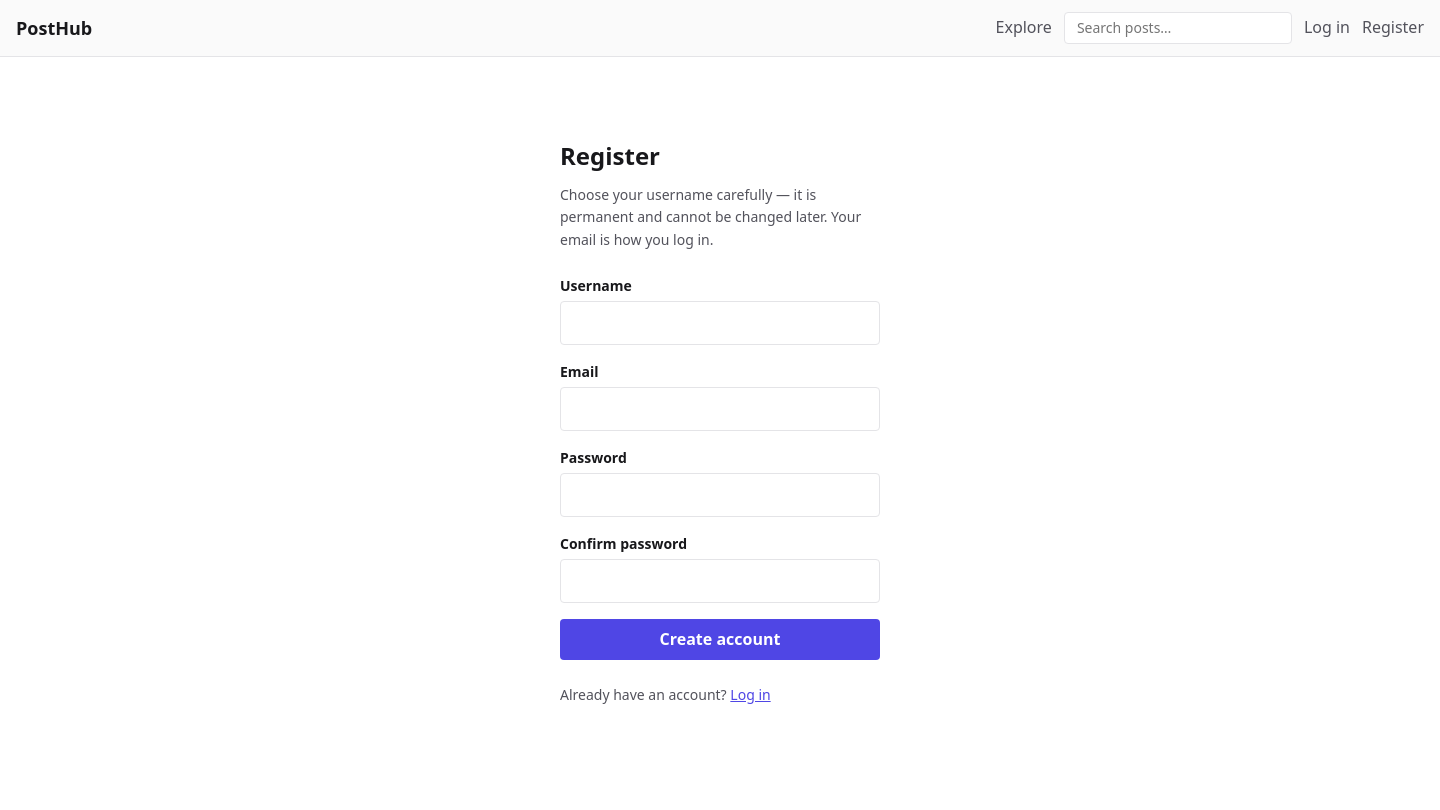
Scenario: auth flows › surfaces a taken username against the field, without leaving the form
In the field labelled "Username": (720, 323) [560, 301, 880, 345], type "andres"
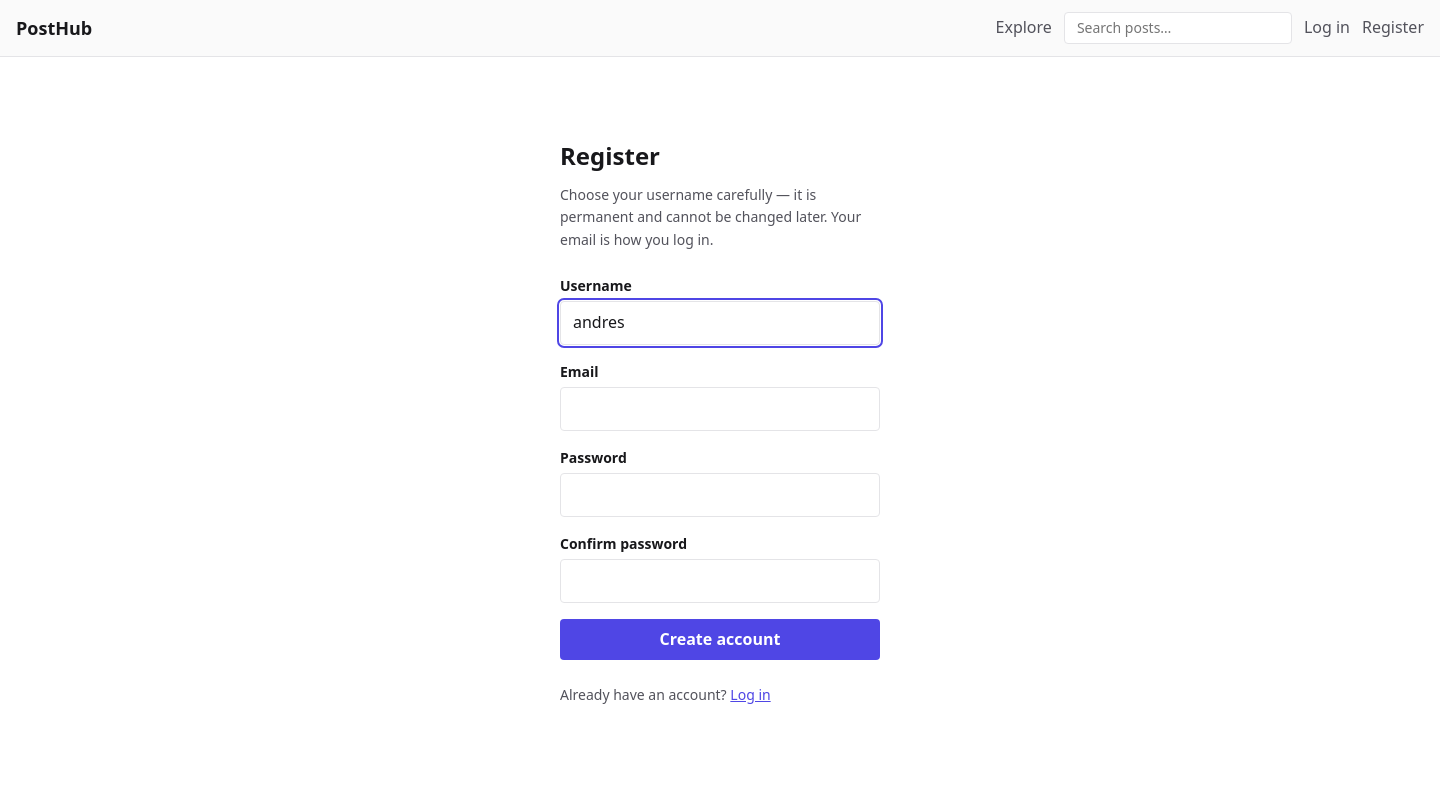
In the field labelled "Email": (720, 409) [560, 387, 880, 431], type "andres@example.com"
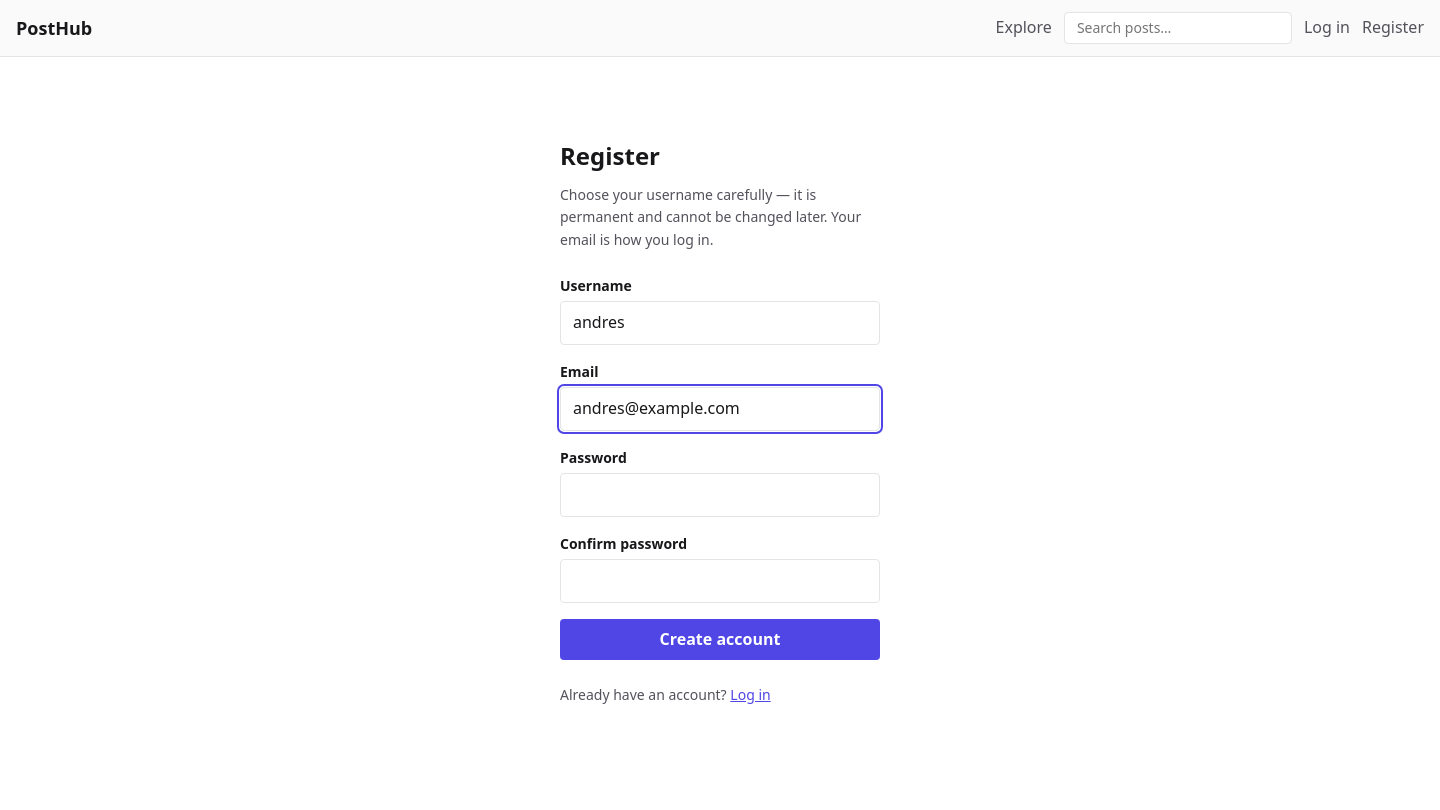
In the password field labelled "Password": (720, 495) [560, 473, 880, 517], type "password123"
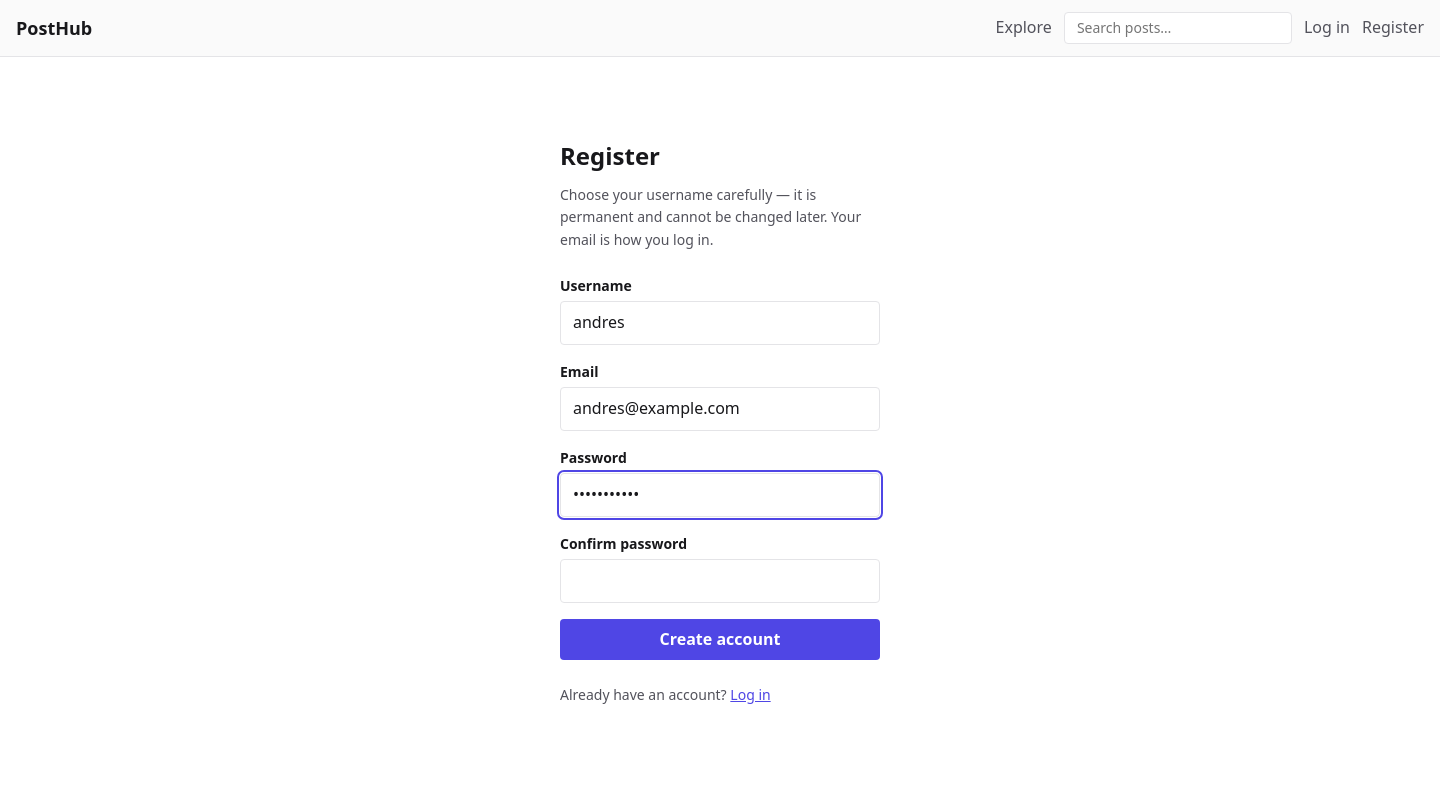
In the password field labelled "Confirm password": (720, 581) [560, 559, 880, 603], type "password123"
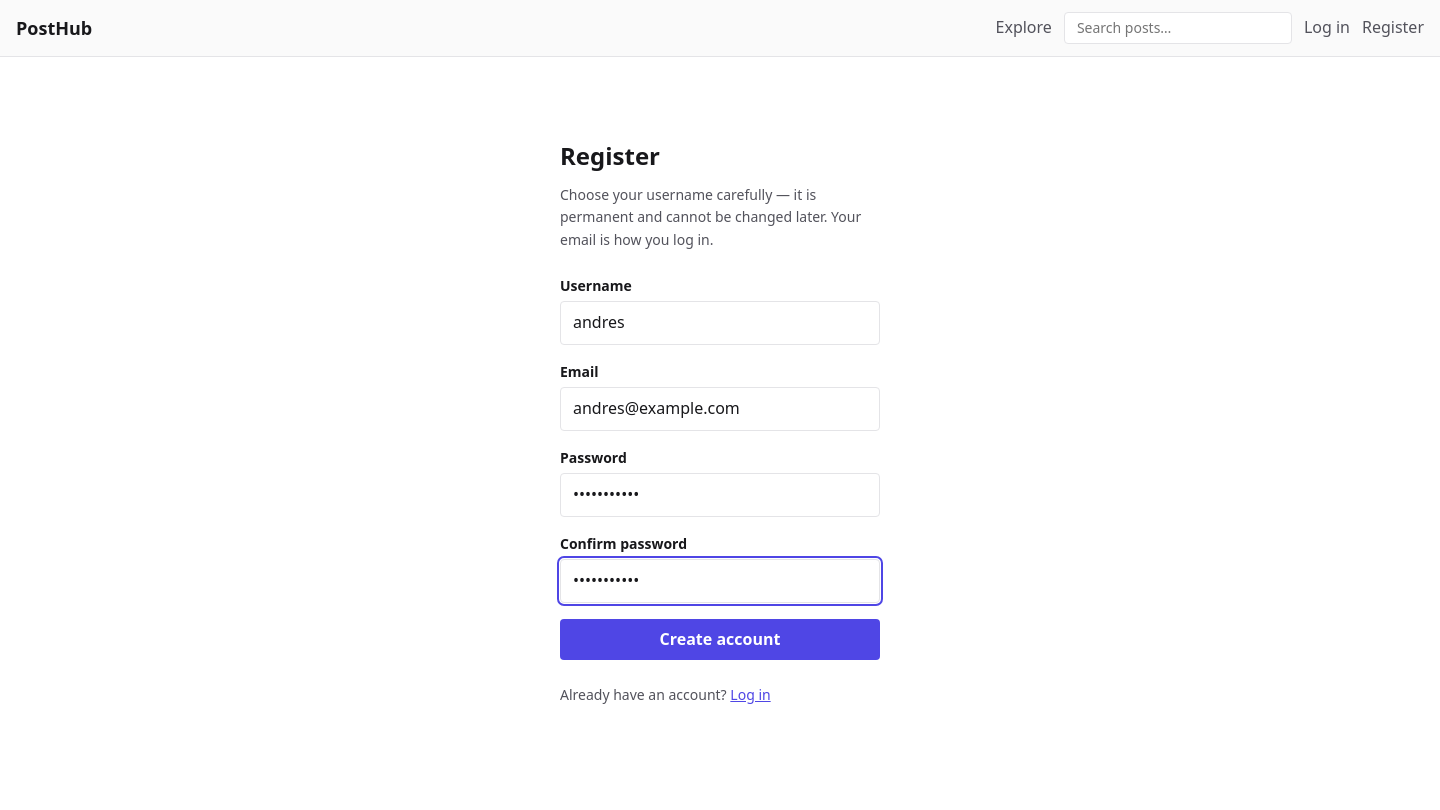
Click the button "Create account": (720, 640) [560, 619, 880, 660]
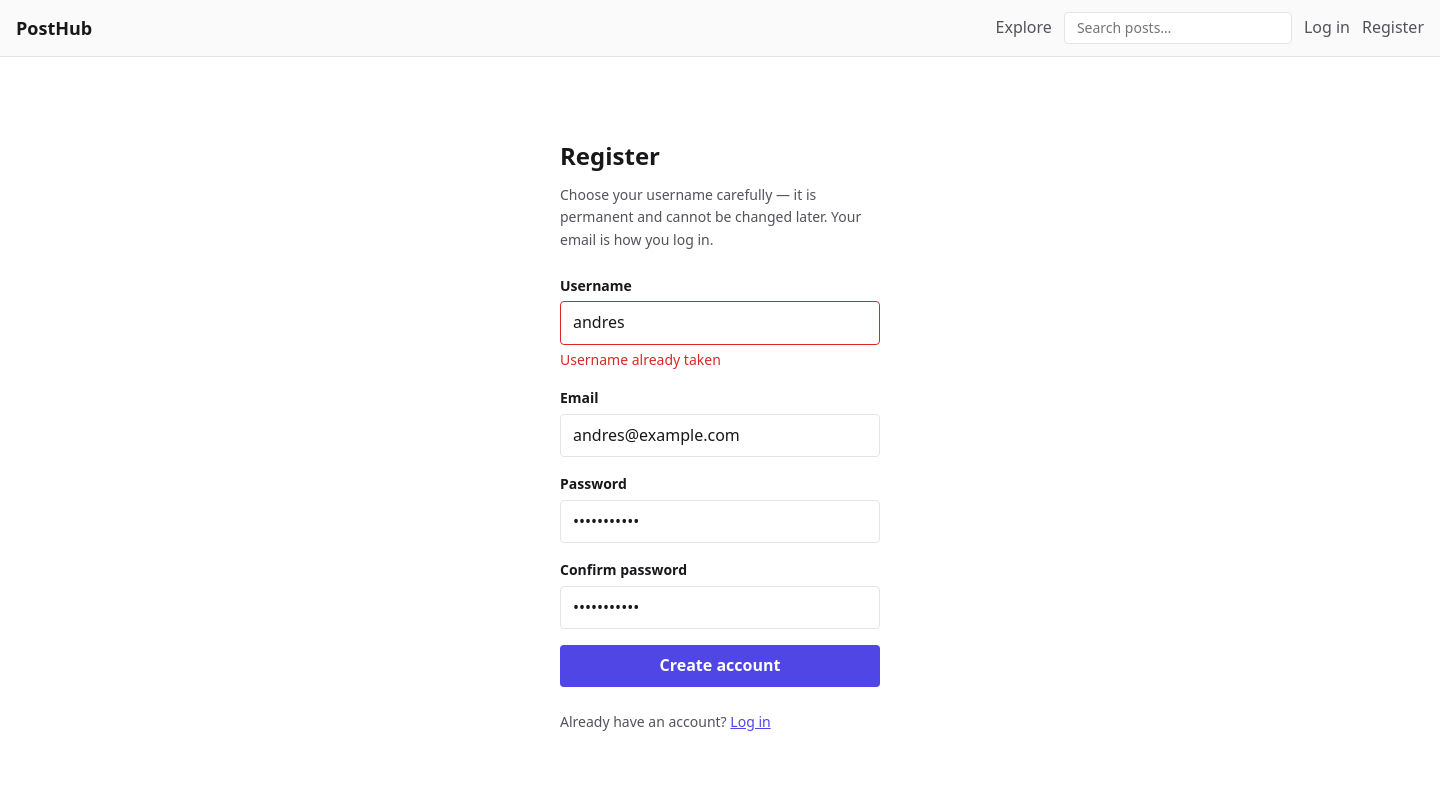
Expected: the heading "Register" is shown, [560, 139, 660, 172]
Expected: the text "Username already taken" is shown, [560, 350, 721, 369]
